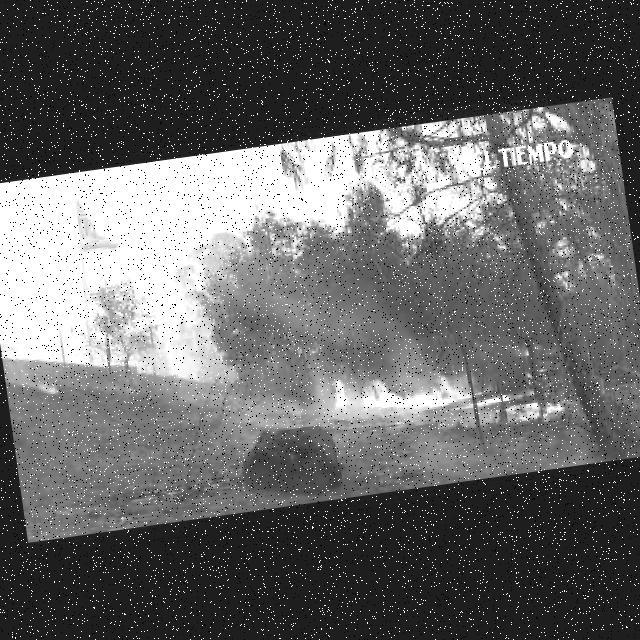Fire: (329, 362, 469, 419), (508, 400, 564, 425)
Smoke: (247, 223, 440, 388)
